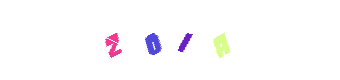A: (181, 0, 261, 80)
I: (130, 0, 210, 80)
O: (123, 0, 203, 80)
Z: (73, 0, 153, 80)
